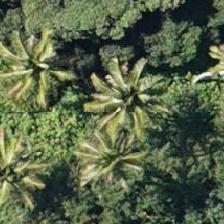coconut_tree: (76, 53, 166, 143), (0, 19, 82, 109)
